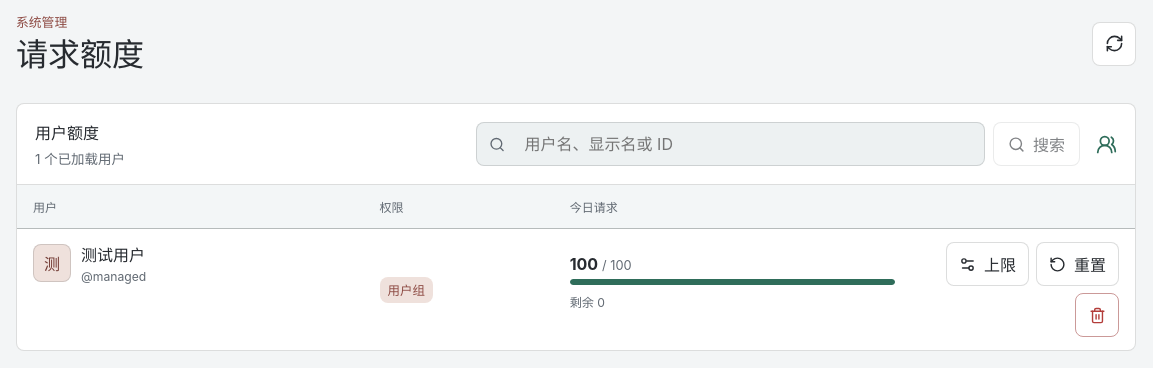
Test: AdminView request quota management › requires confirmation and updates the row after resetting usage
Click the button "重置" at (1078, 264), box x1=1036 y1=242 x2=1119 y2=286
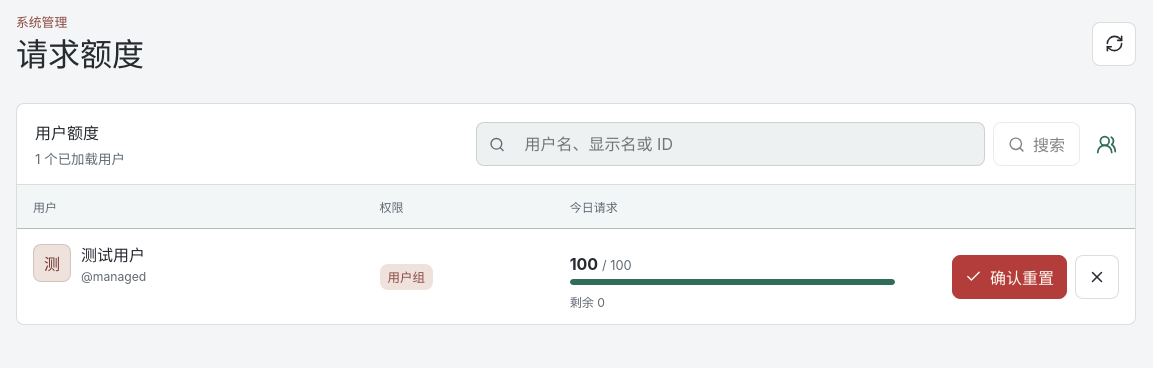
Click the button "确认重置" at (1010, 276), box x1=952 y1=254 x2=1067 y2=298
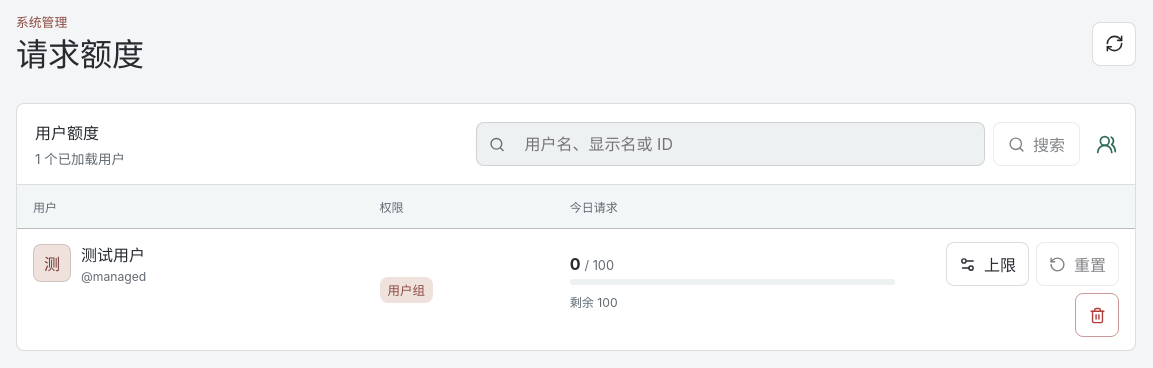
Now the text "剩余 100" is shown, box x1=570 y1=295 x2=618 y2=310
